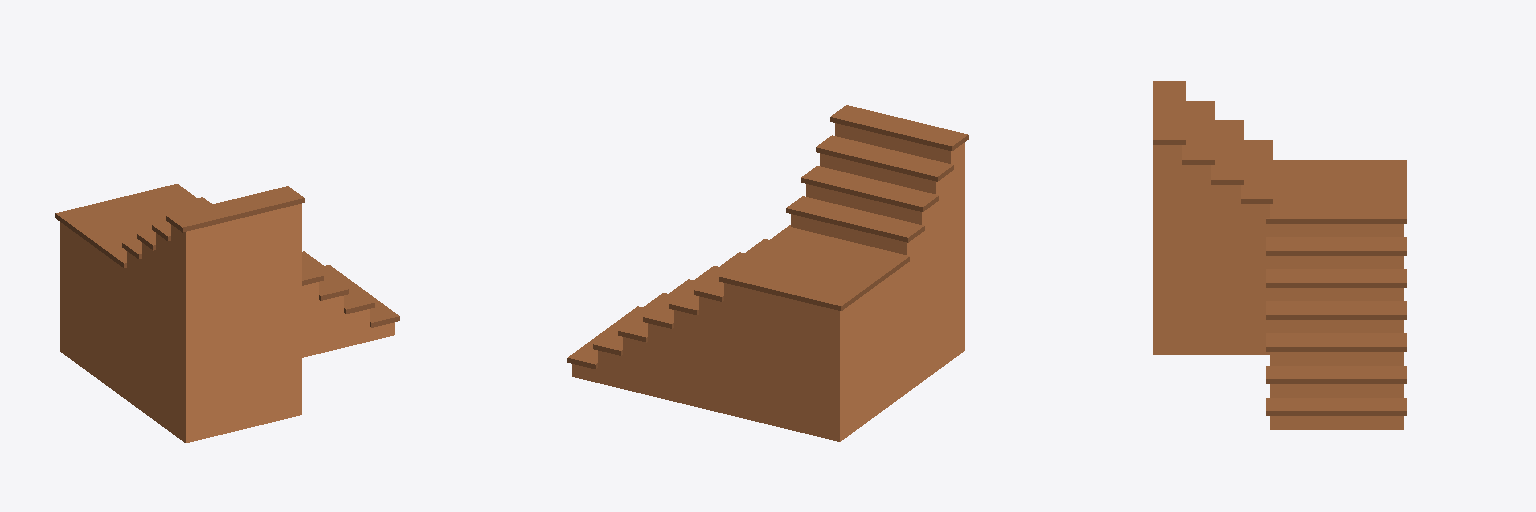
Rendered from stairsCorner.obj.
The picture shows the model from 3 angles: view 1: azimuth 30°, elevation 25°; view 2: azimuth 150°, elevation 25°; view 3: azimuth 270°, elevation 25°; orthographic projection.
Parts seen in each view (by area): view 1: stairsCorner; view 2: stairsCorner; view 3: stairsCorner.
Boxes of the visible parts, x1=… form: stairsCorner: x1=55, y1=184, x2=399, y2=442; stairsCorner: x1=567, y1=105, x2=968, y2=441; stairsCorner: x1=1153, y1=81, x2=1406, y2=429.
Size of the model in its own units: 1.77 by 1.34 by 1.43.